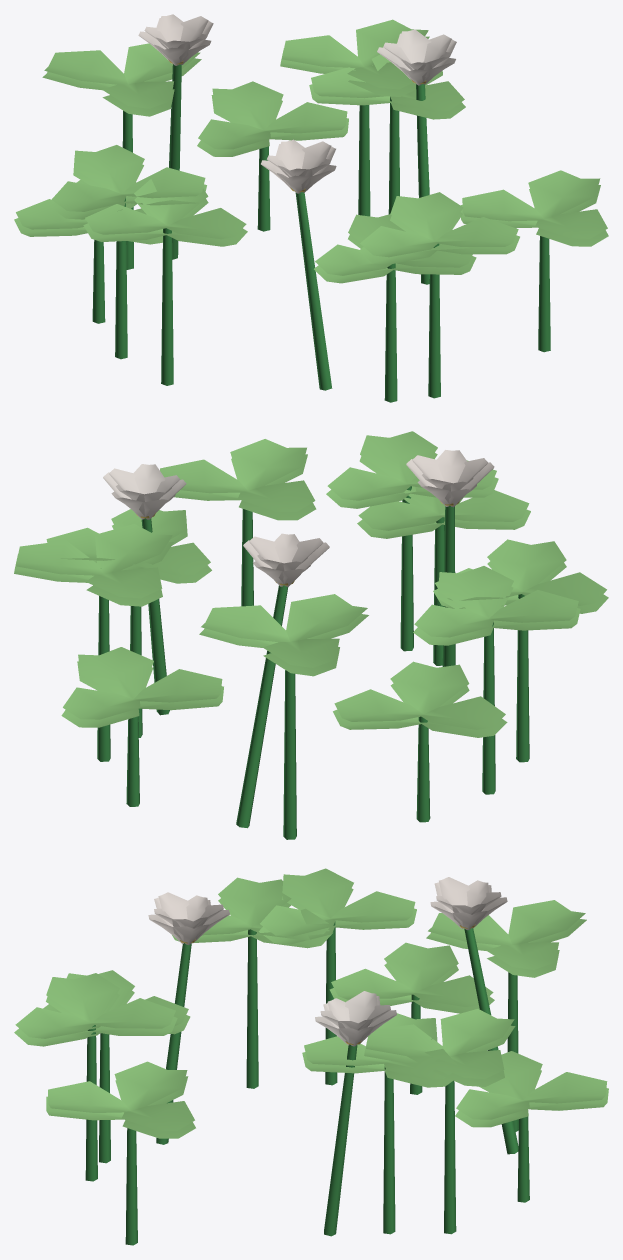
Rendered from ing_wood_sorrel.gltf.
3 views of the same model, one above another, from view 1: azimuth 30°, elevation 25°; view 2: azimuth 150°, elevation 25°; view 3: azimuth 270°, elevation 25° (orthographic). The views are drawn at different scales.
Parts seen in each view (by area): view 1: ing_wood_sorrel; view 2: ing_wood_sorrel; view 3: ing_wood_sorrel.
Boxes of the visible parts, x1,y1,x2,y2 form: ing_wood_sorrel: (14,14,608,402); ing_wood_sorrel: (14,431,608,839); ing_wood_sorrel: (14,868,608,1245).
Size of what is drawn, in the model's own units: 0.2022 by 0.104 by 0.2197.
